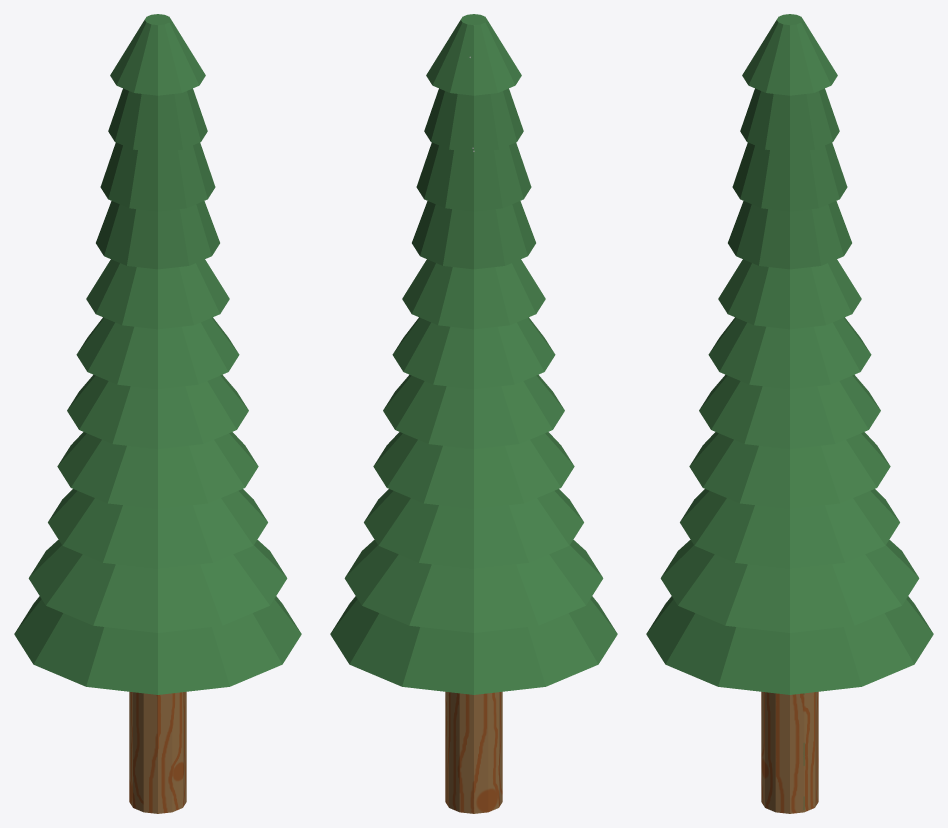
The model's file is Arbol.fbx.
3 views of the same model, side by side, from view 1: azimuth 30°, elevation 25°; view 2: azimuth 150°, elevation 25°; view 3: azimuth 270°, elevation 25° (orthographic).
Parts seen in each view (by area): view 1: Cylinder; view 2: Cylinder; view 3: Cylinder.
Part boxes in pixels (<box>): Cylinder: <box>14,14,301,813</box>; Cylinder: <box>330,14,617,813</box>; Cylinder: <box>646,14,933,813</box>.
Size of the model in its own units: 300 by 900 by 300.
Materials: 1 (1 with a texture image).
